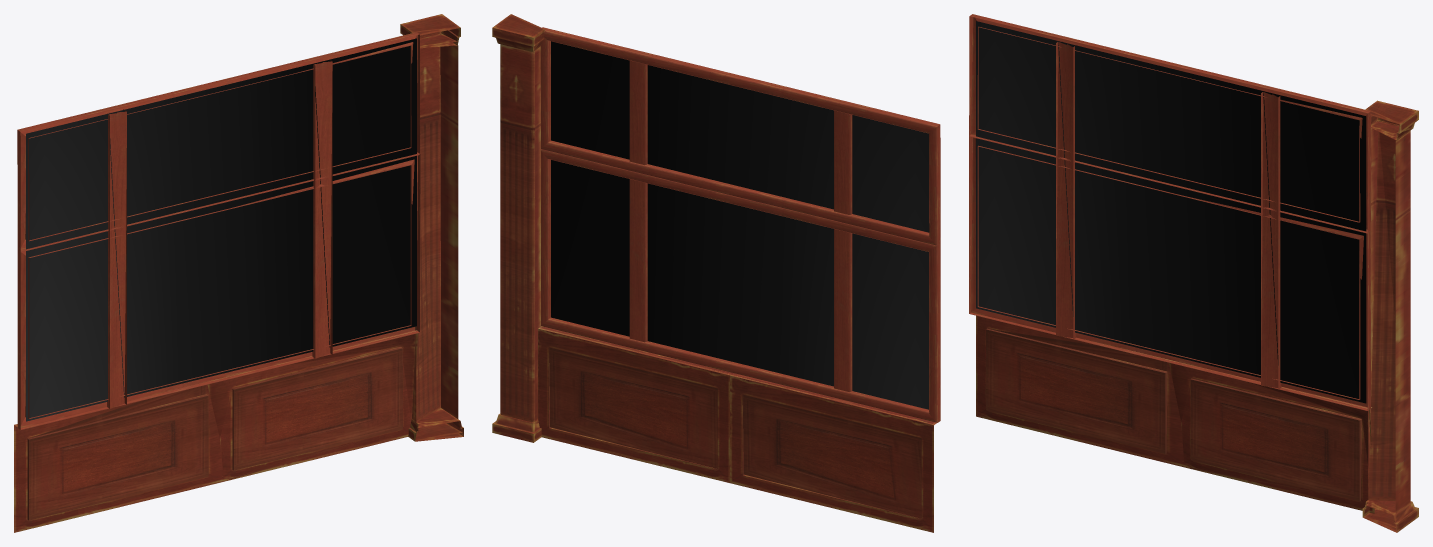
Rendered from Shop_1_2_15 (27).fbx.
3 renders of one model, left to right at view 1: azimuth 30°, elevation 25°; view 2: azimuth 150°, elevation 25°; view 3: azimuth 330°, elevation 25°, orthographic.
Visible parts, largest first — view 1: Glass2, Shop_1_2_15__27_, _000_static_Shop_1_2_15_1, _000_static_Shop_1_2_15; view 2: _001_static_Glass2, Shop_1_2_15__27_, _001_static_Glass2_1, _000_static_Shop_1_2_15, _000_static_Shop_1_2_15_1; view 3: Glass2, Shop_1_2_15__27_, _000_static_Shop_1_2_15_1, _000_static_Shop_1_2_15.
Part boxes in pixels (x1,y1,x2,y2): Glass2: [26, 38, 416, 421]; Shop_1_2_15__27_: [14, 14, 463, 520]; _000_static_Shop_1_2_15_1: [14, 28, 462, 531]; _000_static_Shop_1_2_15: [14, 28, 463, 532]; _001_static_Glass2: [551, 41, 929, 409]; Shop_1_2_15__27_: [492, 14, 940, 532]; _001_static_Glass2_1: [551, 130, 928, 409]; _000_static_Shop_1_2_15: [495, 38, 919, 474]; _000_static_Shop_1_2_15_1: [532, 52, 921, 518]; Glass2: [976, 21, 1366, 403]; Shop_1_2_15__27_: [969, 14, 1418, 532]; _000_static_Shop_1_2_15_1: [971, 17, 1399, 527]; _000_static_Shop_1_2_15: [969, 16, 1415, 531].
Size of the model in its own units: 37956 by 33855 by 3302.
